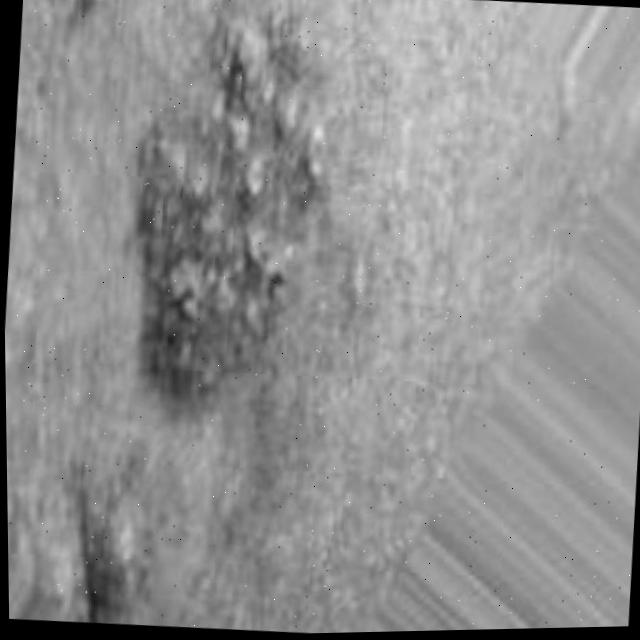Shingles: (115, 39, 332, 407)
